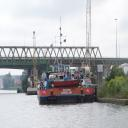tugboat: (37, 64, 98, 107)
